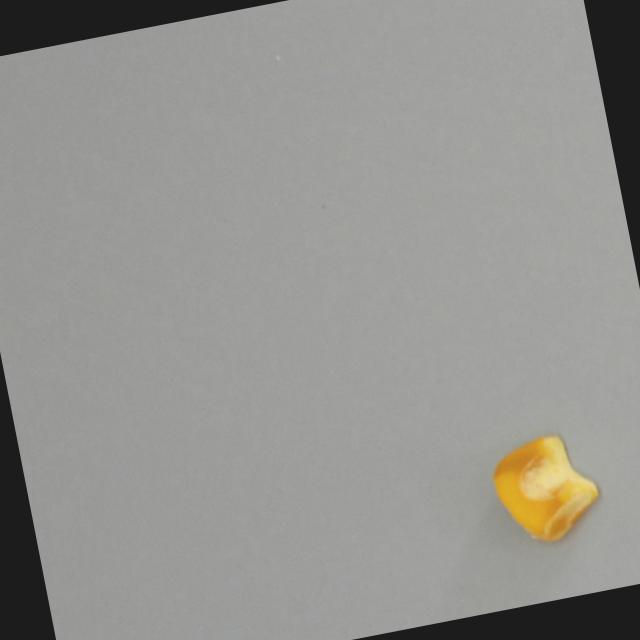dañado: (482, 417, 617, 557)
